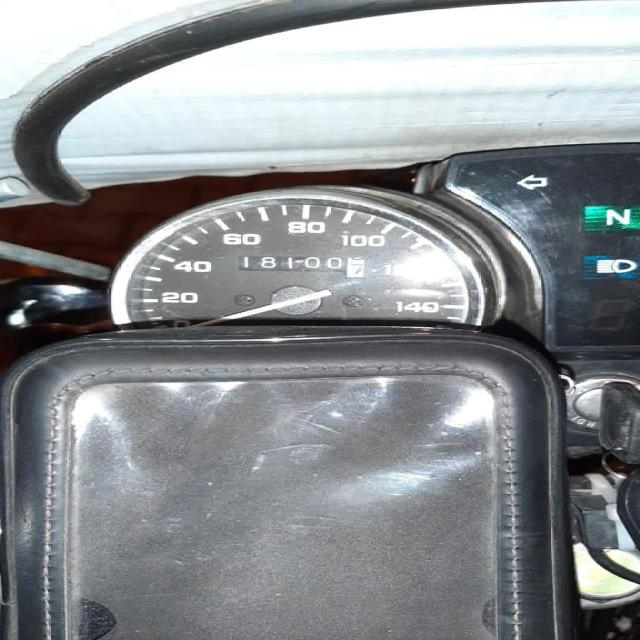odometer: (232, 254, 368, 278)
